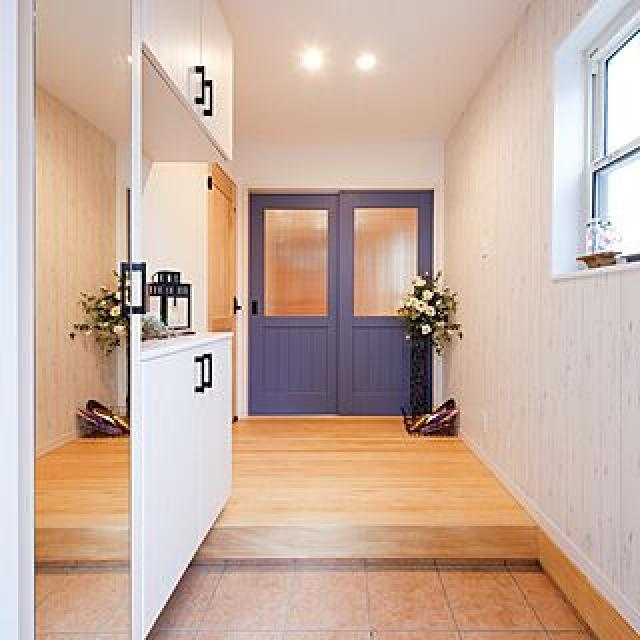vintage shelf: (0, 1, 249, 640)
